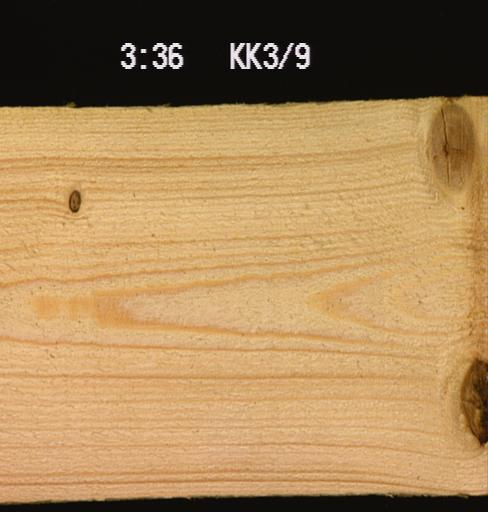dry_knot: (66, 186, 82, 212)
edge_knot: (421, 99, 479, 207)
